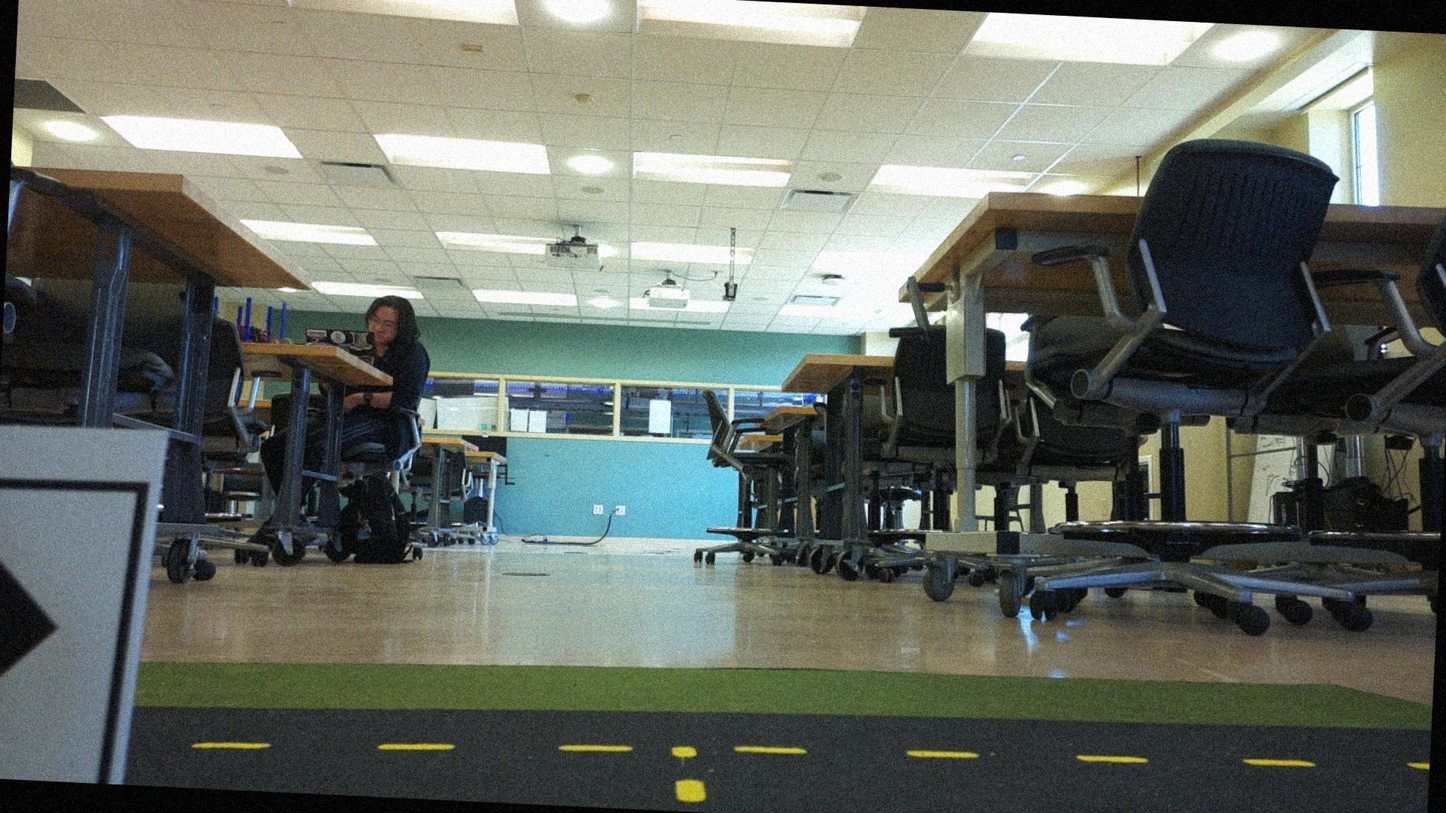yellowline: (197, 691, 1430, 808)
